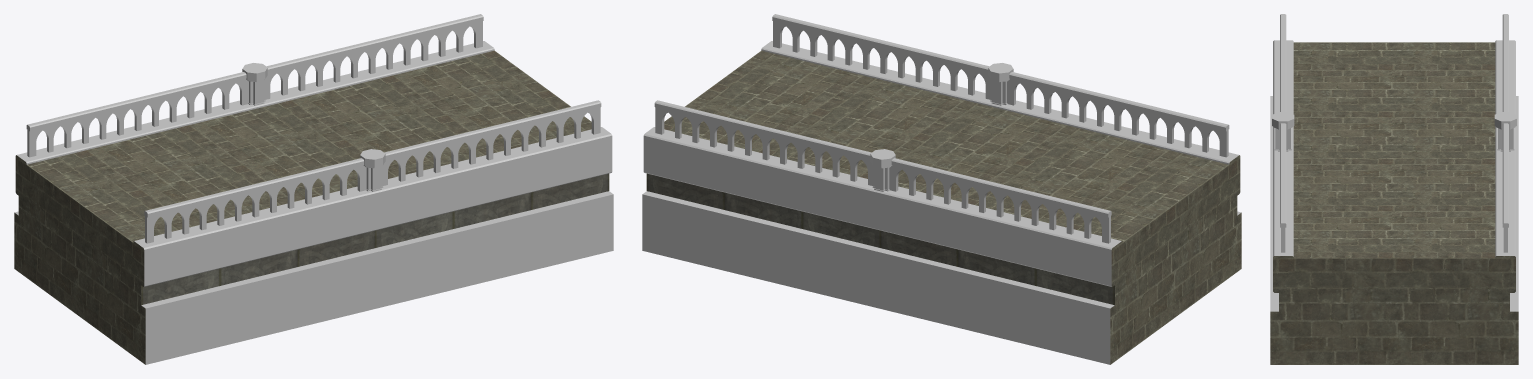
Rendered from bridge_deck_02.fbx.
The picture shows the model from 3 angles, left to right: view 1: azimuth 30°, elevation 25°; view 2: azimuth 150°, elevation 25°; view 3: azimuth 270°, elevation 25°; orthographic projection. The views are drawn at different scales.
Visible parts, largest first — view 1: bridge_deck_02; view 2: bridge_deck_02; view 3: bridge_deck_02.
Part boxes in pixels (box(x1,y1,x2,y2)): bridge_deck_02: box(14, 14, 613, 364); bridge_deck_02: box(642, 14, 1241, 364); bridge_deck_02: box(1270, 14, 1518, 364).
Bounding box in the file's own units: 1600 × 485 × 777.
